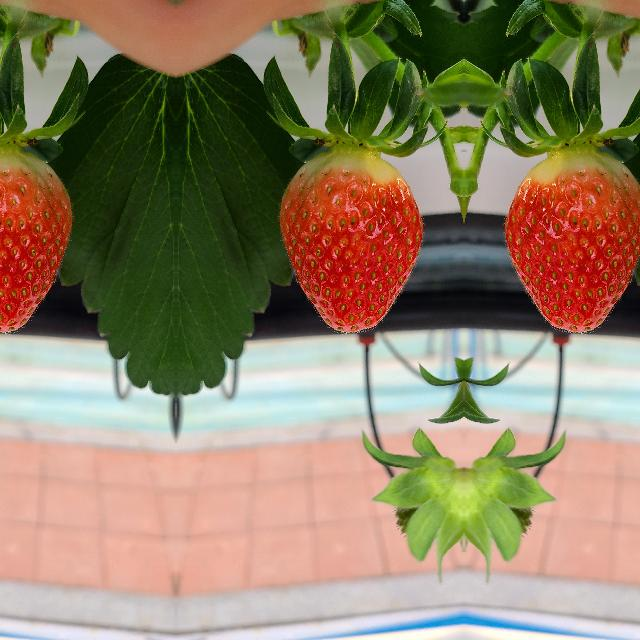Health_100: (276, 152, 424, 334), (502, 151, 640, 334), (0, 151, 74, 334)
